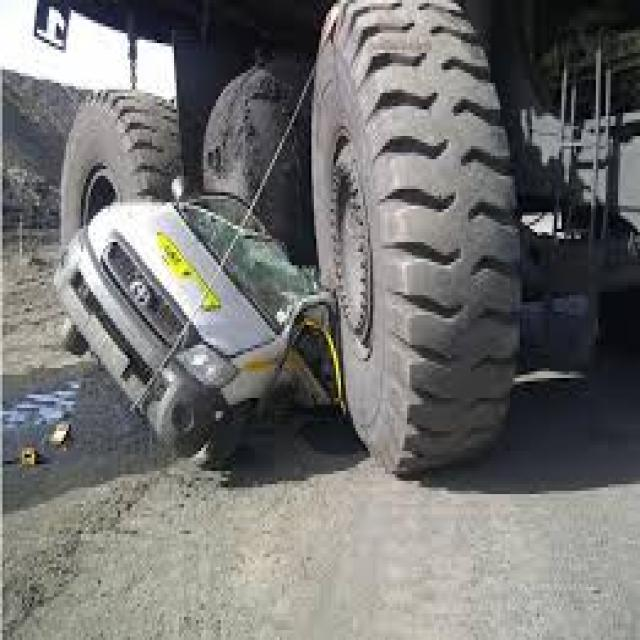light_vehicle: (34, 159, 360, 471)
